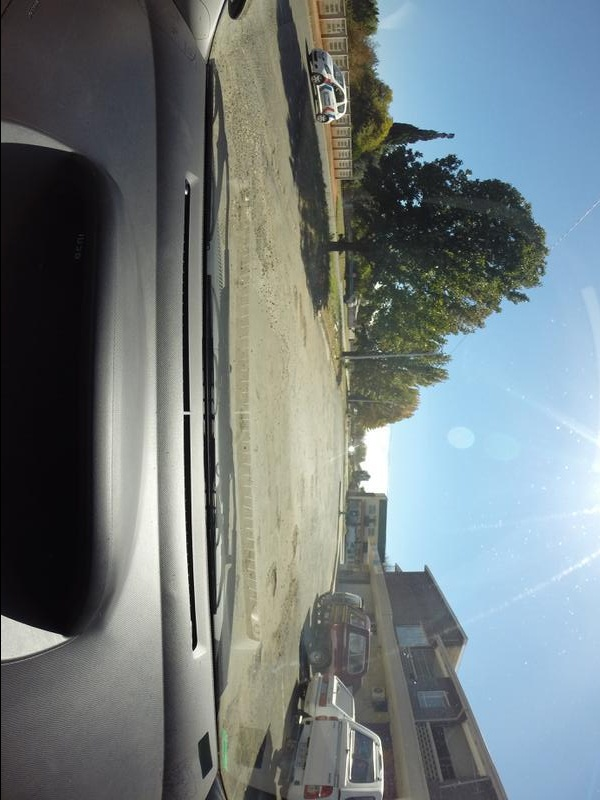pothole: (266, 563, 280, 604), (287, 527, 301, 567)
